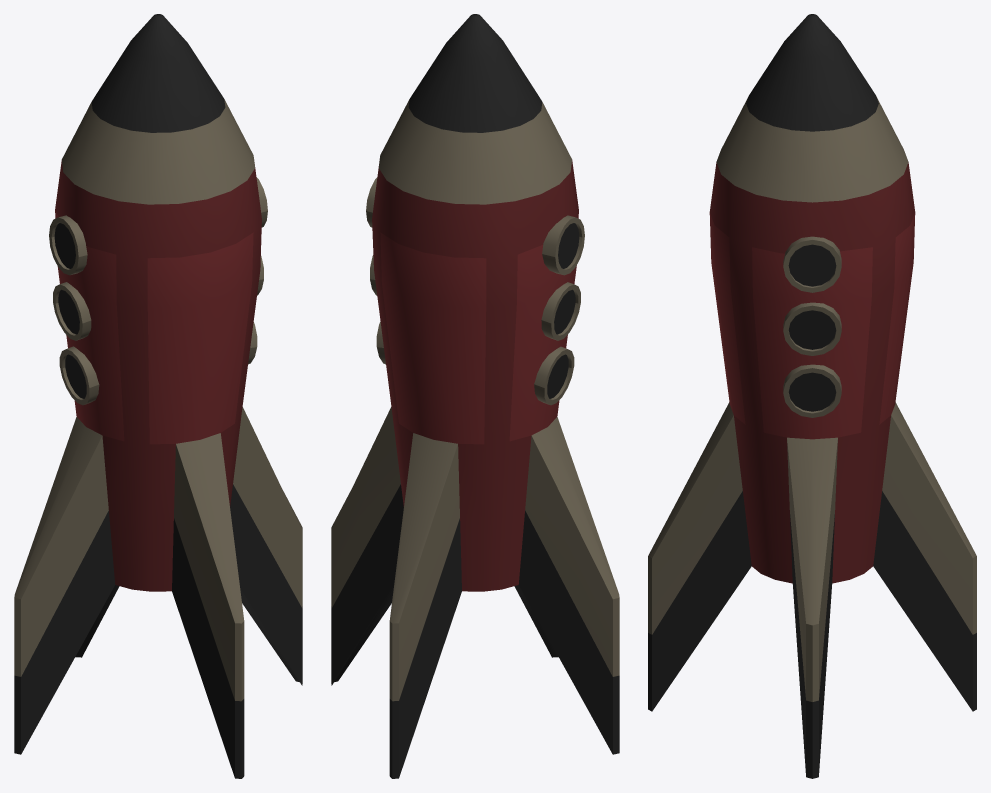
Rendered from rocket_20210130(1).fbx.
The picture shows the model from 3 angles, left to right: view 1: azimuth 30°, elevation 25°; view 2: azimuth 150°, elevation 25°; view 3: azimuth 270°, elevation 25°; orthographic projection.
Parts seen in each view (by area): view 1: rocket; view 2: rocket; view 3: rocket.
Part boxes in pixels (x1=…): rocket: x1=14, y1=14, x2=302, y2=778; rocket: x1=331, y1=14, x2=619, y2=778; rocket: x1=648, y1=14, x2=976, y2=778.
Size of the model in its own units: 398 by 925 by 398.
